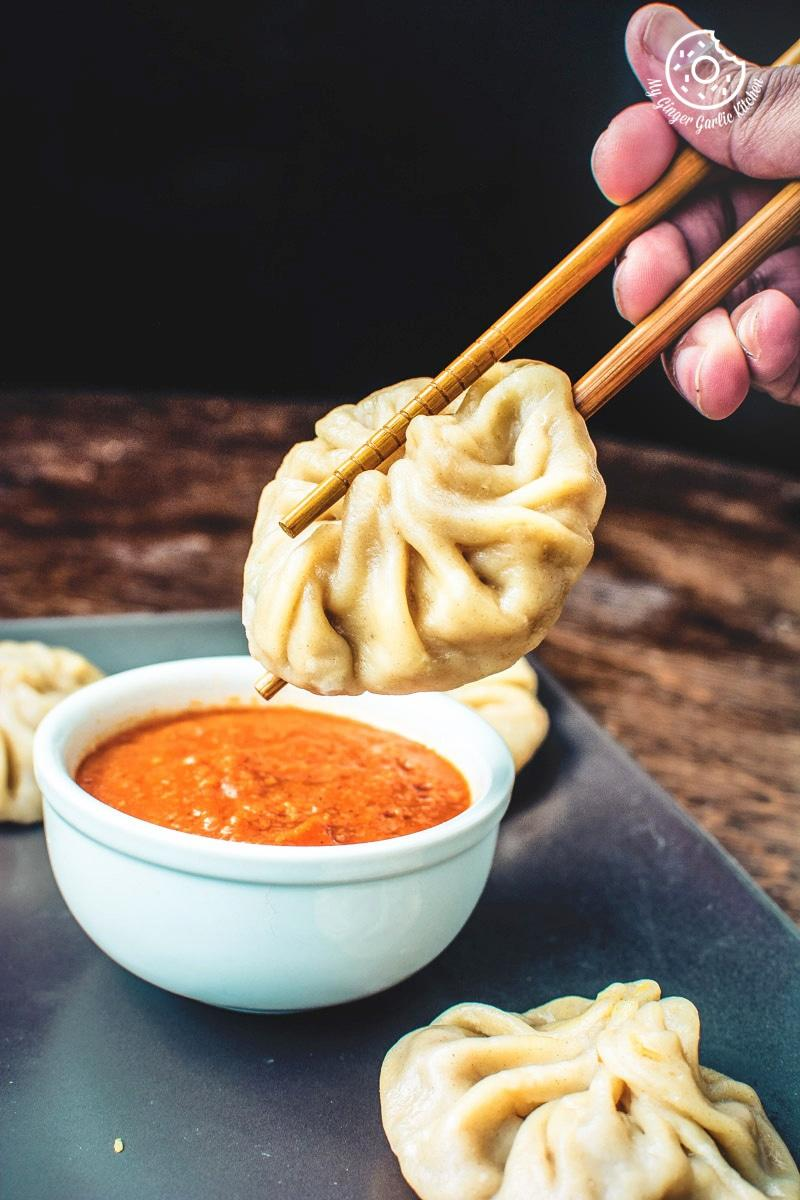momos: (244, 359, 605, 694)
